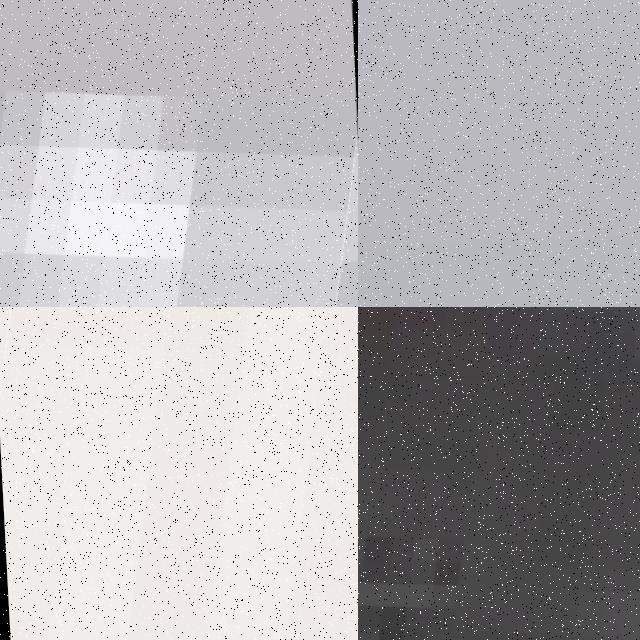0: (0, 0, 358, 307)
drone: (0, 307, 358, 640), (358, 307, 640, 640)
